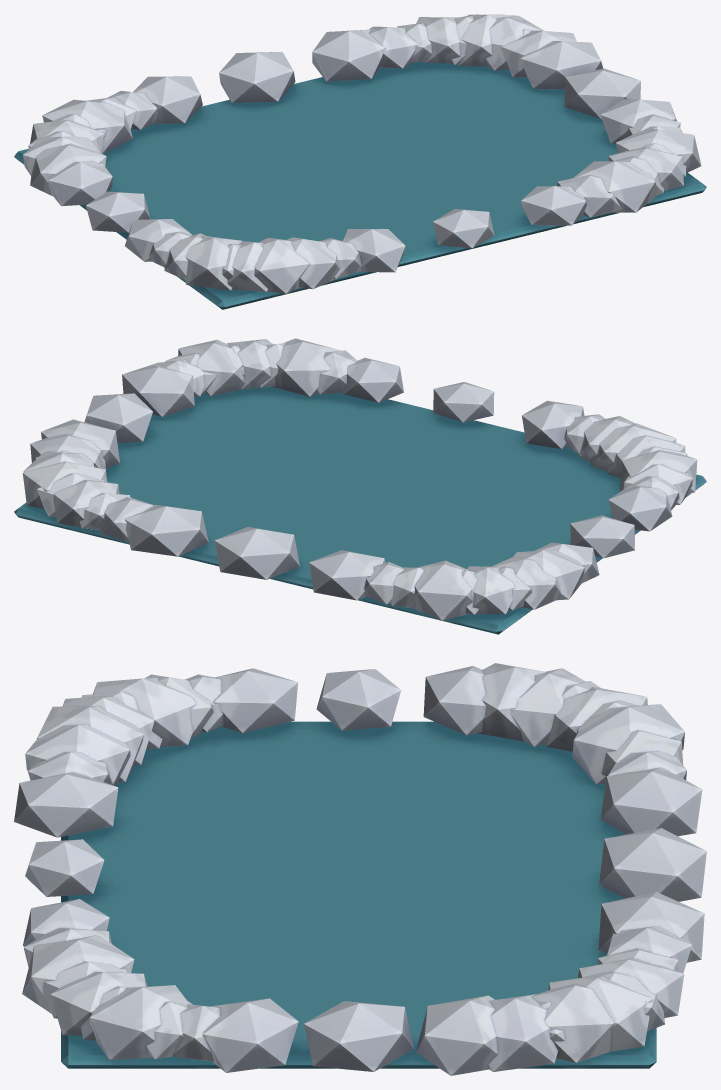
The model's file is prop_pond.glb.
The picture shows the model from 3 angles, top to bottom: view 1: azimuth 30°, elevation 25°; view 2: azimuth 150°, elevation 25°; view 3: azimuth 270°, elevation 25°; orthographic projection. The views are drawn at different scales.
Visible parts, largest first — view 1: prop; view 2: prop; view 3: prop.
Boxes of the visible parts, <box> form: prop: <box>14,14,706,309</box>; prop: <box>14,338,706,634</box>; prop: <box>14,663,706,1075</box>.
Bounding box in the file's own units: 12.11 × 1.1 × 9.31.
1 material, 1 textured.
